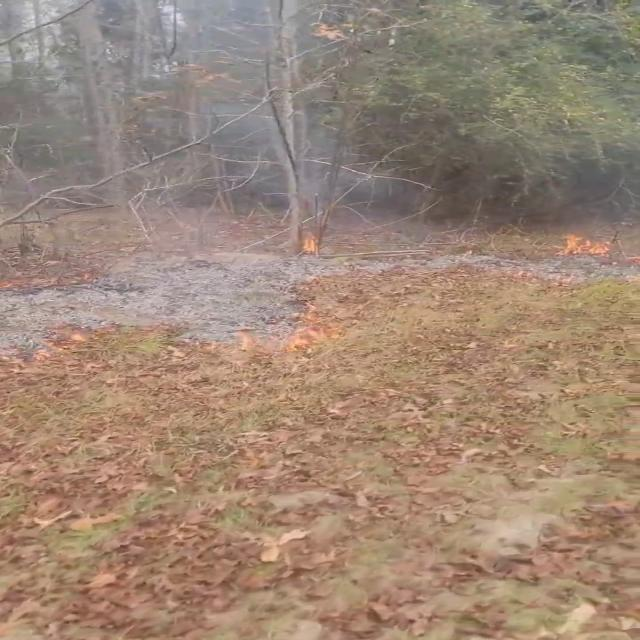Fire: (553, 228, 615, 258)
